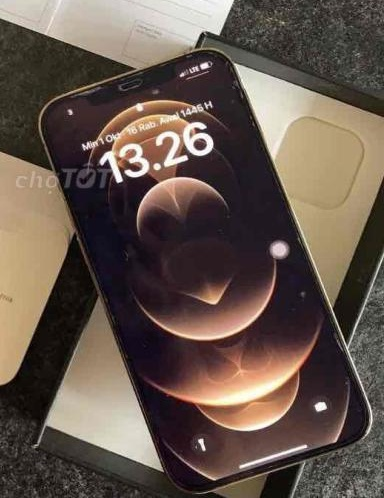physical_damage: (274, 197, 355, 375), (83, 266, 145, 391), (218, 55, 262, 129), (60, 73, 129, 107)
